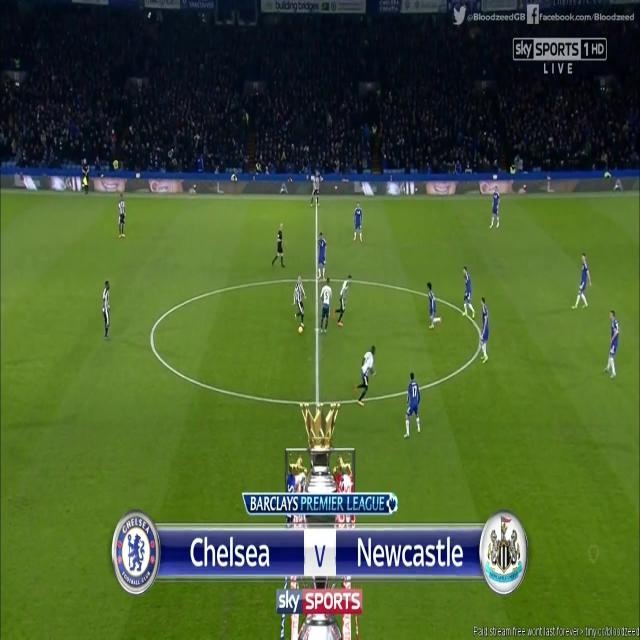Ball: (296, 323, 304, 337)
Player: (568, 251, 594, 313), (352, 345, 376, 407), (402, 371, 422, 444), (602, 309, 621, 384), (332, 273, 352, 331), (459, 260, 476, 321), (317, 276, 333, 337), (478, 294, 490, 367), (426, 278, 442, 330), (292, 274, 307, 325), (101, 278, 112, 340), (487, 186, 501, 233), (316, 232, 328, 283), (353, 201, 365, 248), (116, 194, 127, 241), (308, 173, 321, 212)
Referee: (269, 222, 287, 272), (79, 158, 91, 198)
